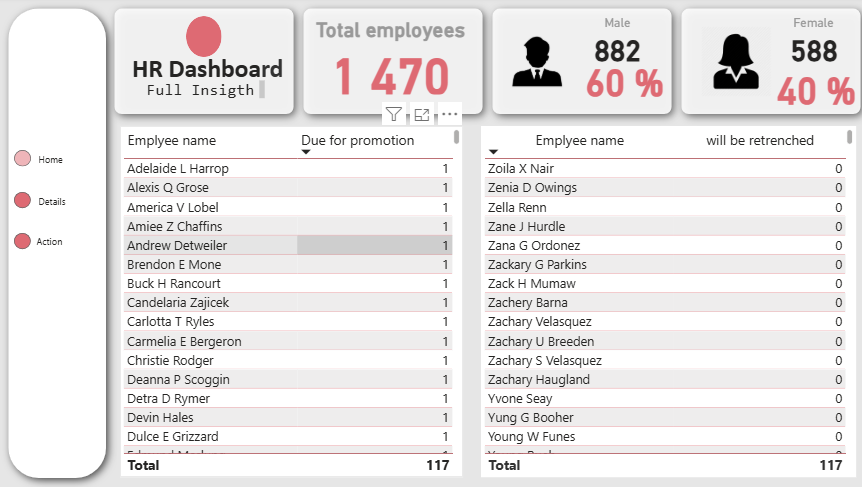

What the dashboard file says about the page in this screenshot:
{"tool":"powerbi","page":{"name":"action ","canvas":[1280,720],"ordinal":2},"visuals":[{"type":"shape","box":[0,0,176.4,720.6],"z":0},{"type":"shape","box":[984.4,0,295.6,188.1],"z":1000},{"type":"shape","box":[708.9,0,295.6,188.1],"z":2000},{"type":"shape","box":[431.7,0,295.6,188.1],"z":3000},{"type":"shape","box":[154.5,0,295.6,188.1],"z":4000},{"type":"textbox","box":[166.2,75.4,283.1,63.1],"z":5000},{"type":"textbox","box":[207.7,116.9,189.2,36.9],"z":6000},{"type":"shape","box":[276.9,27.7,52.3,60],"z":7000},{"type":"card","title":"Total employees","fields":{"Values":["All Measures.Total Emp"]},"box":[424.2,30.3,303,116.7],"z":8000},{"type":"card","title":"Male","fields":{"Values":["All Measures.Male"]},"box":[823.1,26.9,171.3,80.6],"z":9000},{"type":"card","title":"Male","fields":{"Values":["All Measures.% Male"]},"box":[851.4,75.7,132.9,85.7],"z":10000},{"type":"card","title":"Female","fields":{"Values":["All Measures.Female"]},"box":[1108.7,26.9,171.3,80.6],"z":11000},{"type":"card","title":"Male","fields":{"Values":["All Measures.% Female"]},"box":[1132.2,87.3,132.7,85.7],"z":12000},{"type":"image","box":[738.6,30,102.9,127.1],"z":13000},{"type":"image","box":[1030,30,102.9,127.1],"z":14000},{"type":"tableEx","fields":{"Values":["HR Analytics Data.Emplyee name","All Measures.Due for promotion"]},"box":[180,188.8,502,513.7],"z":15000},{"type":"tableEx","fields":{"Values":["HR Analytics Data.Emplyee name","All Measures.will be retrenched"]},"box":[708.3,188.8,548.8,513.7],"z":16000},{"type":"shape","box":[25,224.2,25,24.2],"z":16001},{"type":"shape","box":[24.5,345.5,24.5,23.6],"z":16002},{"type":"shape","box":[24.5,285.5,24.5,23.6],"z":16003},{"type":"textbox","box":[55.5,285.5,58.2,31.8],"z":16004},{"type":"textbox","box":[52.7,343.6,101.8,27.3],"z":16005},{"type":"textbox","box":[55.5,224.5,58.2,31.8],"z":16006}]}

Visuals, with their boxes in screenshot pixels (x1, y1, x2, y2), scaled from the page's 1280x720 canvas onto the 862x487 screenshot:
shape: 0:0:119:486
shape: 663:0:861:127
shape: 477:0:676:127
shape: 291:0:490:127
shape: 104:0:303:127
textbox: 112:51:303:94
textbox: 140:79:267:104
shape: 186:19:222:59
"Total employees" card: 286:20:490:99
"Male" card: 554:18:670:73
"Male" card: 573:51:663:109
"Female" card: 747:18:861:73
"Male" card: 762:59:852:117
image: 497:20:567:106
image: 694:20:763:106
tableEx - HR Analytics Data.Emplyee name x All Measures.Due for promotion: 121:128:459:475
tableEx - HR Analytics Data.Emplyee name x All Measures.will be retrenched: 477:128:847:475
shape: 17:152:34:168
shape: 16:234:33:250
shape: 16:193:33:209
textbox: 37:193:77:215
textbox: 35:232:104:251
textbox: 37:152:77:173
